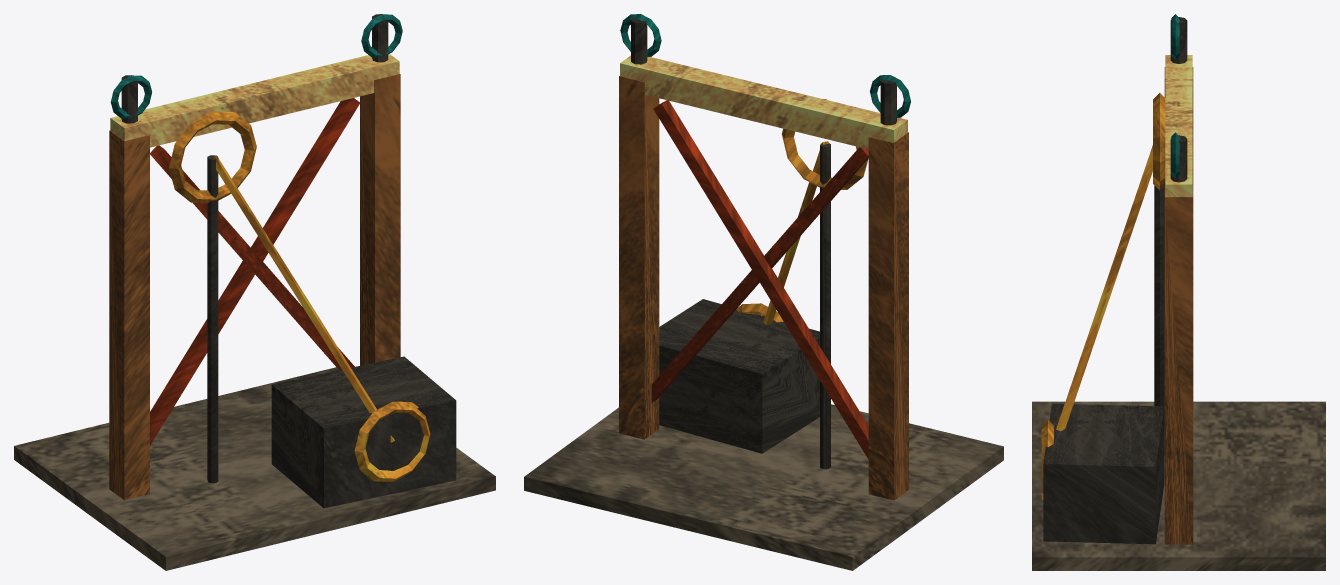
File: derrick-04.glb
3 renders of one model, left to right at view 1: azimuth 30°, elevation 25°; view 2: azimuth 150°, elevation 25°; view 3: azimuth 270°, elevation 25°, orthographic. The views are drawn at different scales.
Visible parts, largest first — view 1: derrick-04; view 2: derrick-04; view 3: derrick-04.
Boxes of the visible parts, left/top/right/bottom form: derrick-04: left=14, top=14, right=495, bottom=570; derrick-04: left=524, top=14, right=1003, bottom=570; derrick-04: left=1032, top=14, right=1325, bottom=570.
Size of the model in its own units: 5.4 by 6.75 by 4.3.
1 material, 1 textured.
